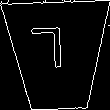L_S: (39, 29, 75, 81)
